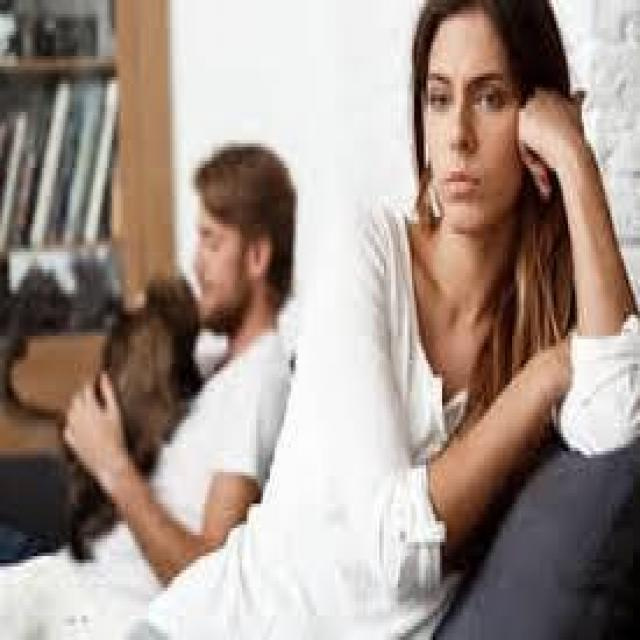person: (277, 0, 631, 637), (32, 140, 302, 615)
